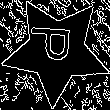P_E: (30, 30, 82, 71)
